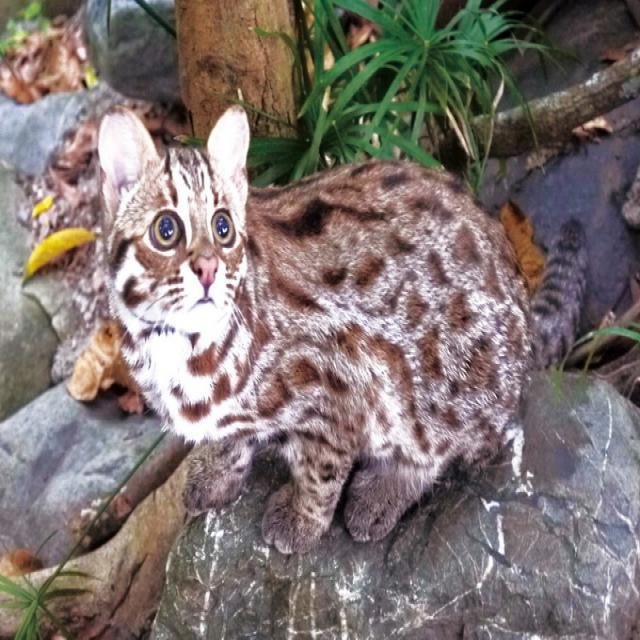leopard: (63, 82, 541, 554)
